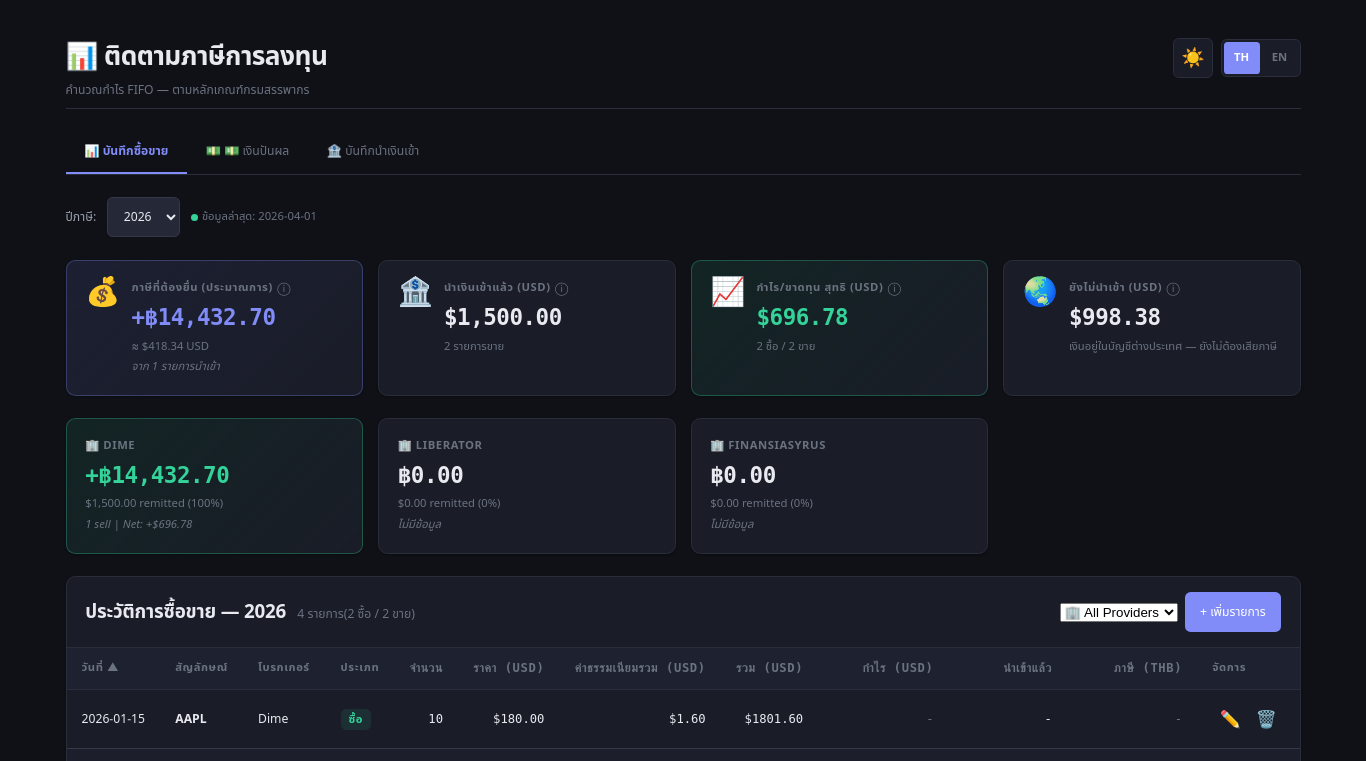
Test: tab-scoped capital-gain summary › shows no capital-gain card or provider row on the Remittances tab
This screenshot has width=1366, height=761.
What coordinates should you click on to do the following:
click the button with class "tab-btn" showing "🏦 บันทึกนำเงินเข้า"
I would click on:
 (373, 152)
Its box is x1=308 y1=131 x2=438 y2=174.
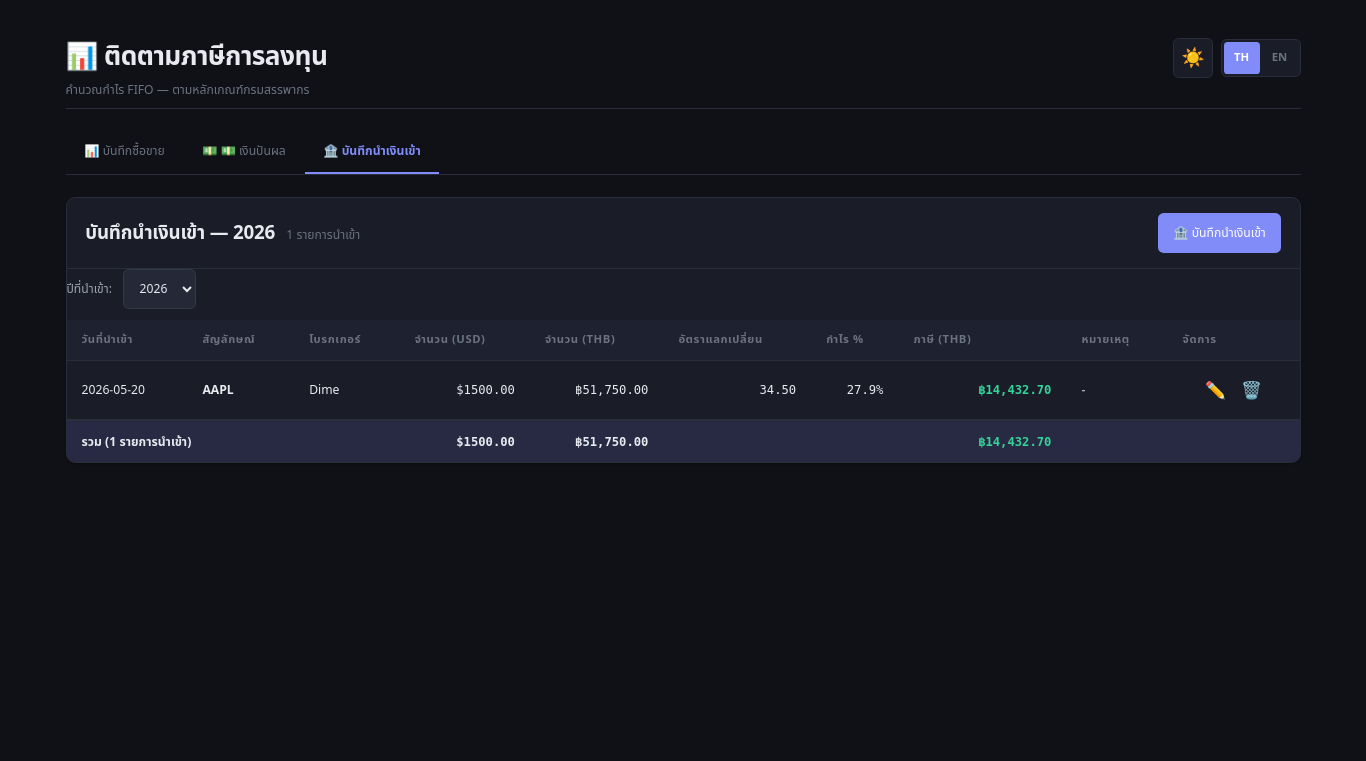
Expected: the element with class "kpi-provider-row" is gone
Expected: no elements with class "kpi-card" are shown
